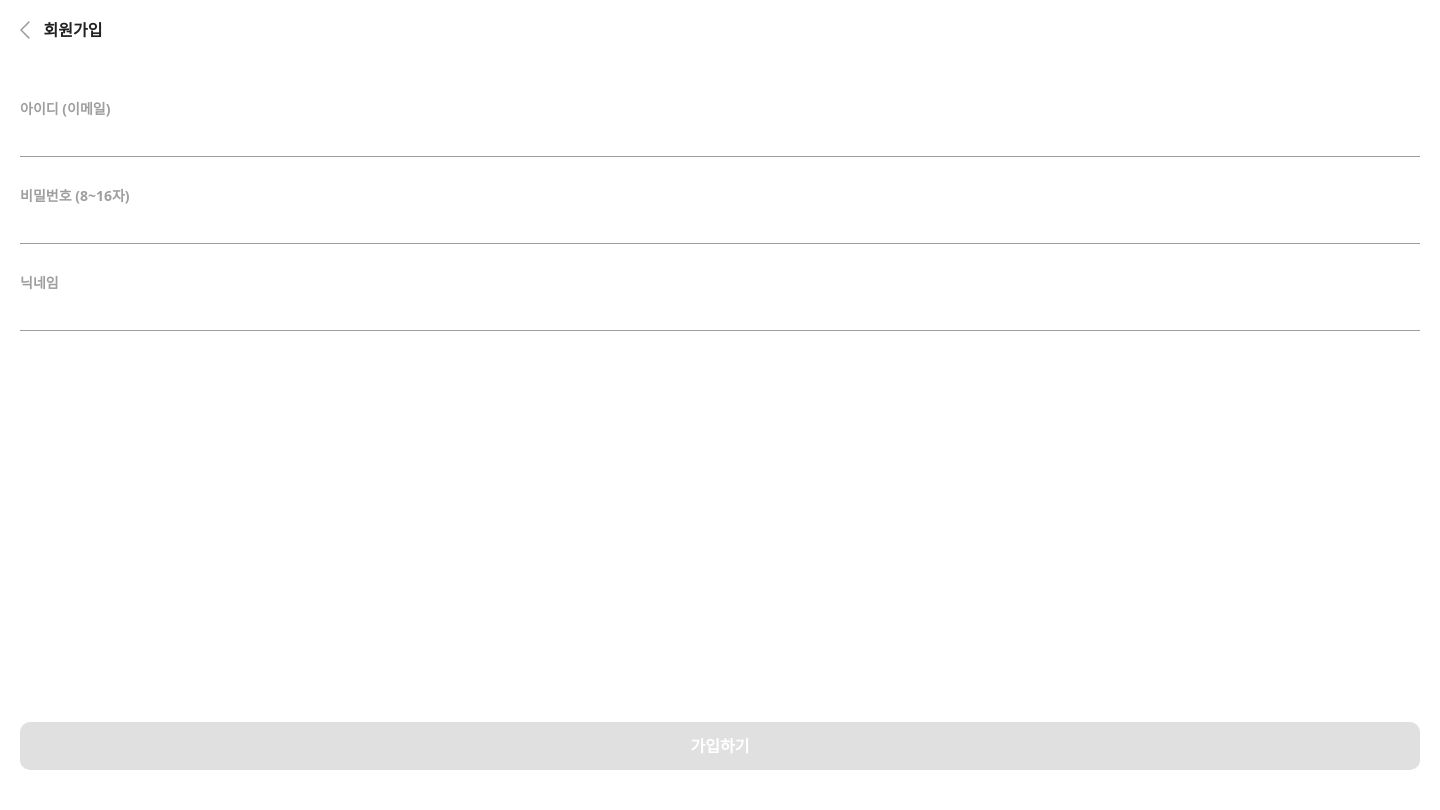
it: 회원가입 테스트 › 비밀번호 형식에 맞지 않는 비밀번호를 입력한 뒤 가입하기 버튼을 누르면 비밀번호 관련 에러메시지가 뜬다.
The image size is (1440, 810).
expect the button "가입하기" is disabled: met, box 20,722 -> 1420,770
Type "brian990614@naver.com" into the field labelled "아이디 (이메일)". click: (720, 141)
box: 20,125 -> 1420,157
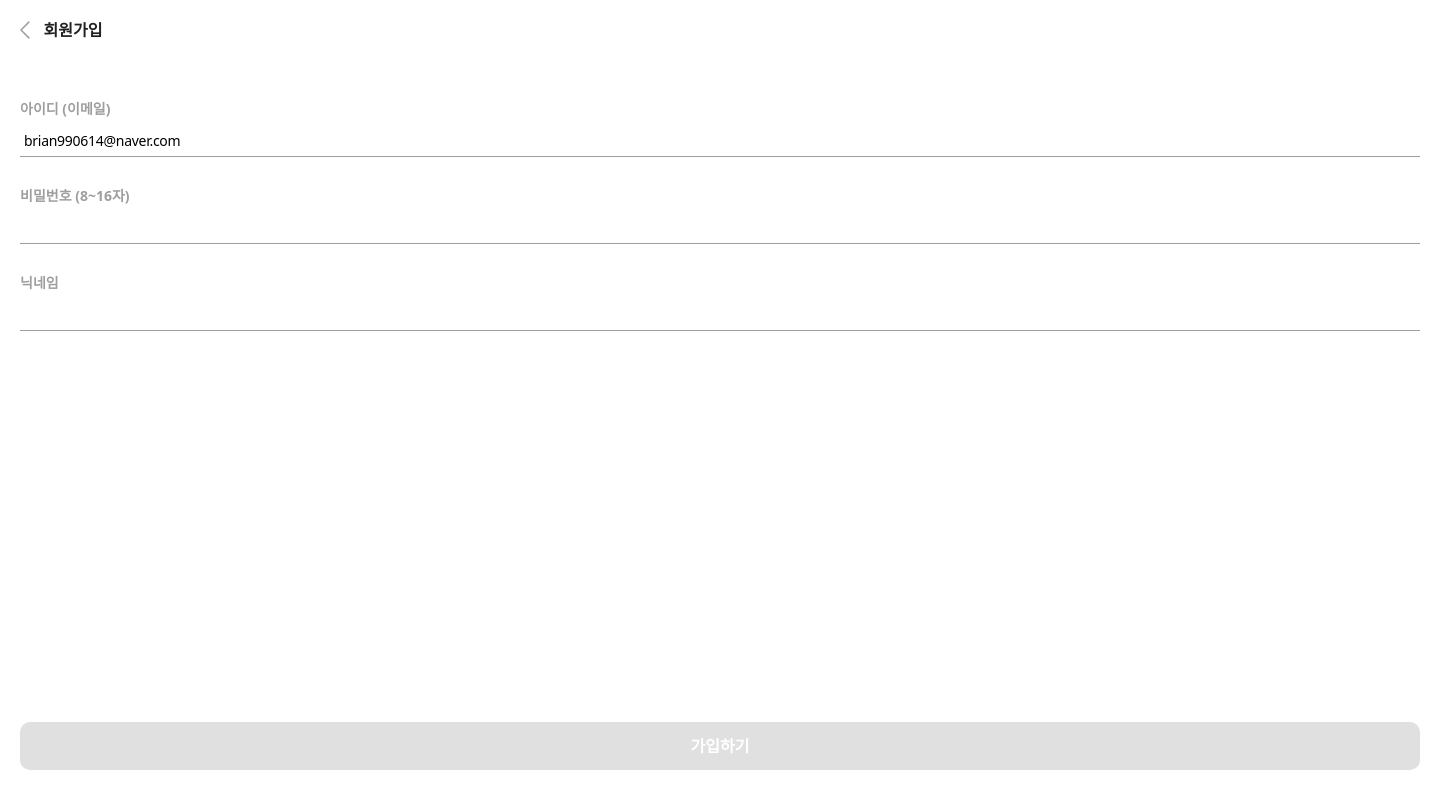
Type "gusals990" into the password field labelled "비밀번호 (8~16자)". click: (720, 228)
box: 20,212 -> 1420,244
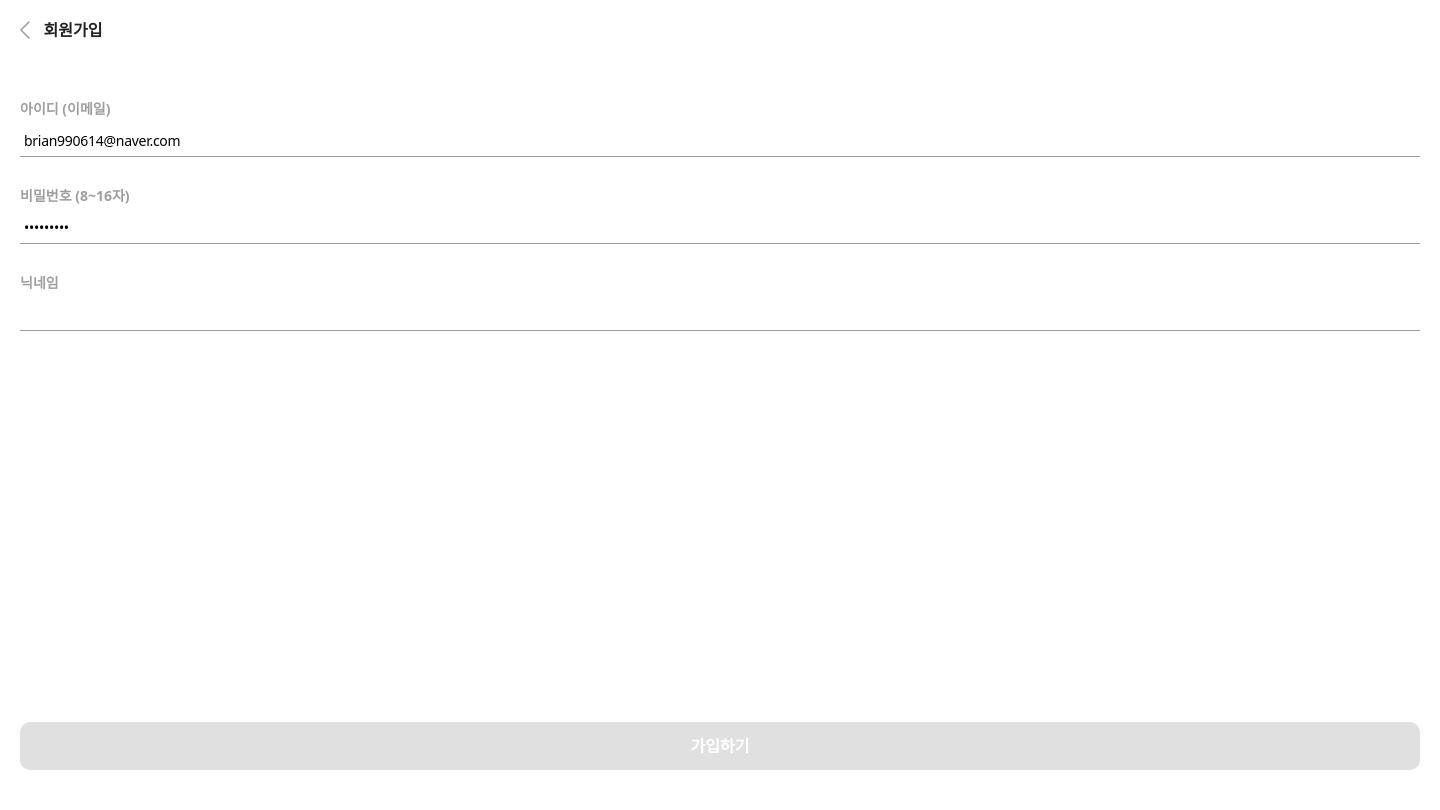
Type "brian" into the field labelled "닉네임". click: (720, 315)
box: 20,299 -> 1420,331
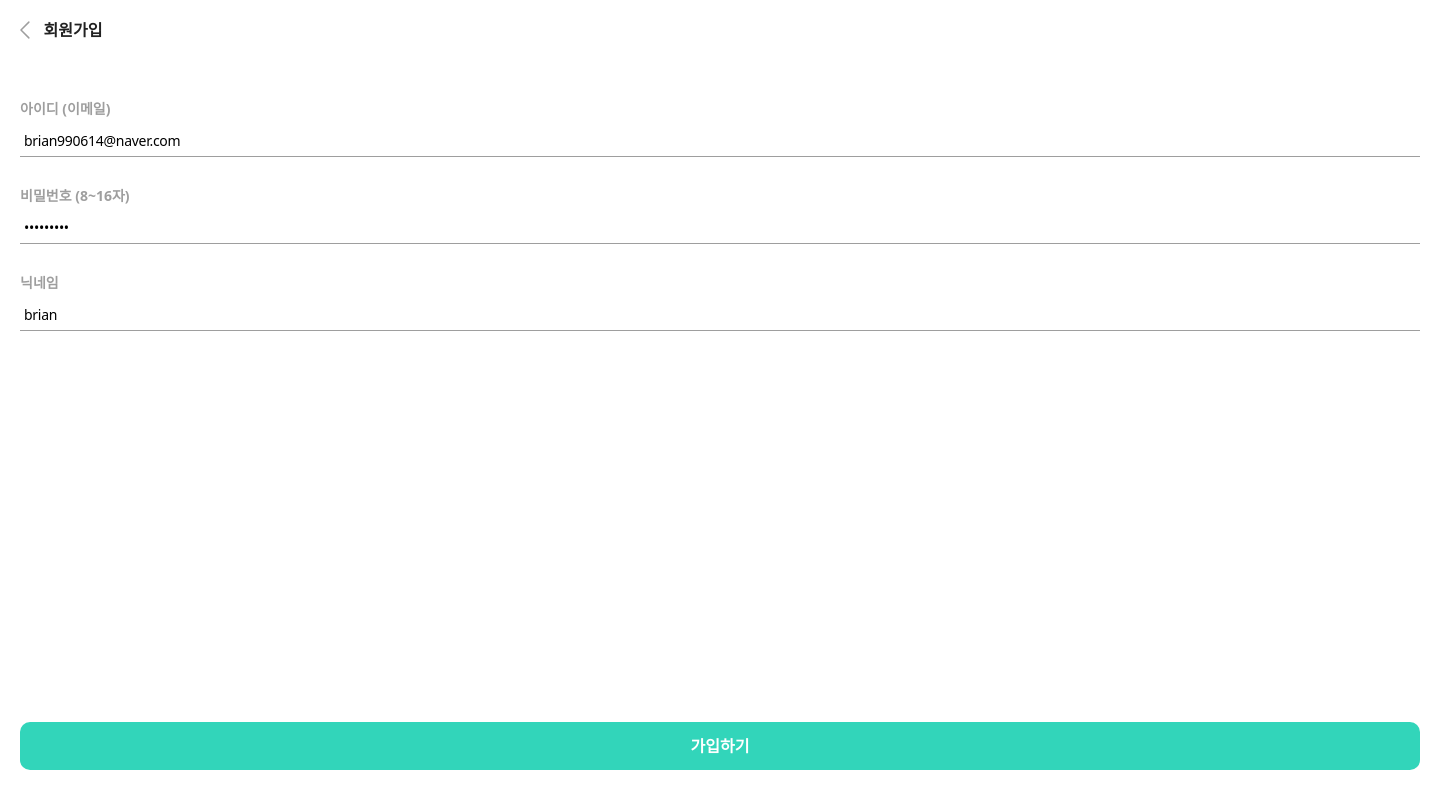
expect the button "가입하기" is enabled: met
Click the button "가입하기". click: (720, 746)
box: 20,722 -> 1420,770
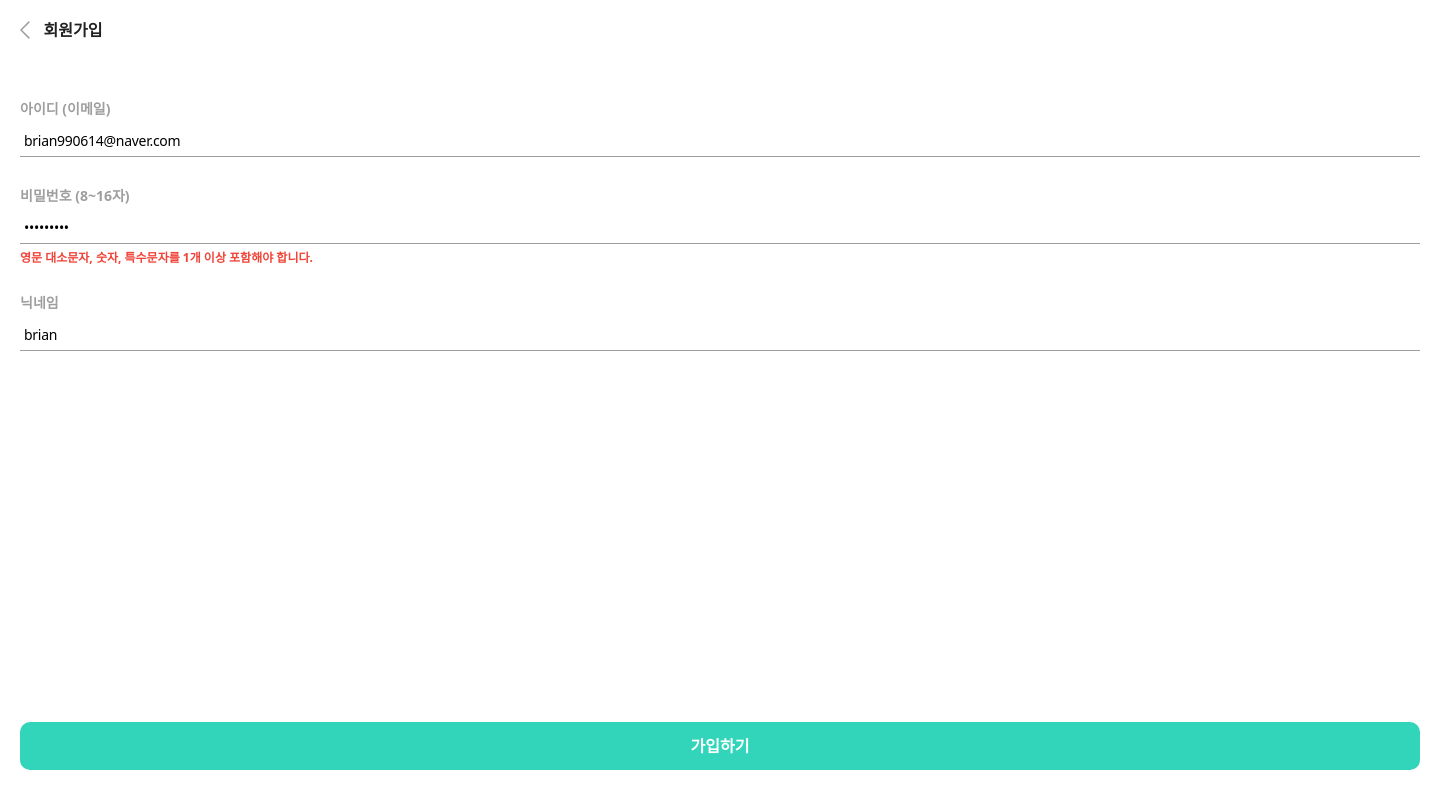
expect the text "영문 대소문자, 숫자, 특수문자를 1개 이상 포함해야 합니다." is shown: met, box 20,249 -> 313,266
Type "gus99^^" into the password field labelled "비밀번호 (8~16자)". click: (720, 228)
box: 20,212 -> 1420,244
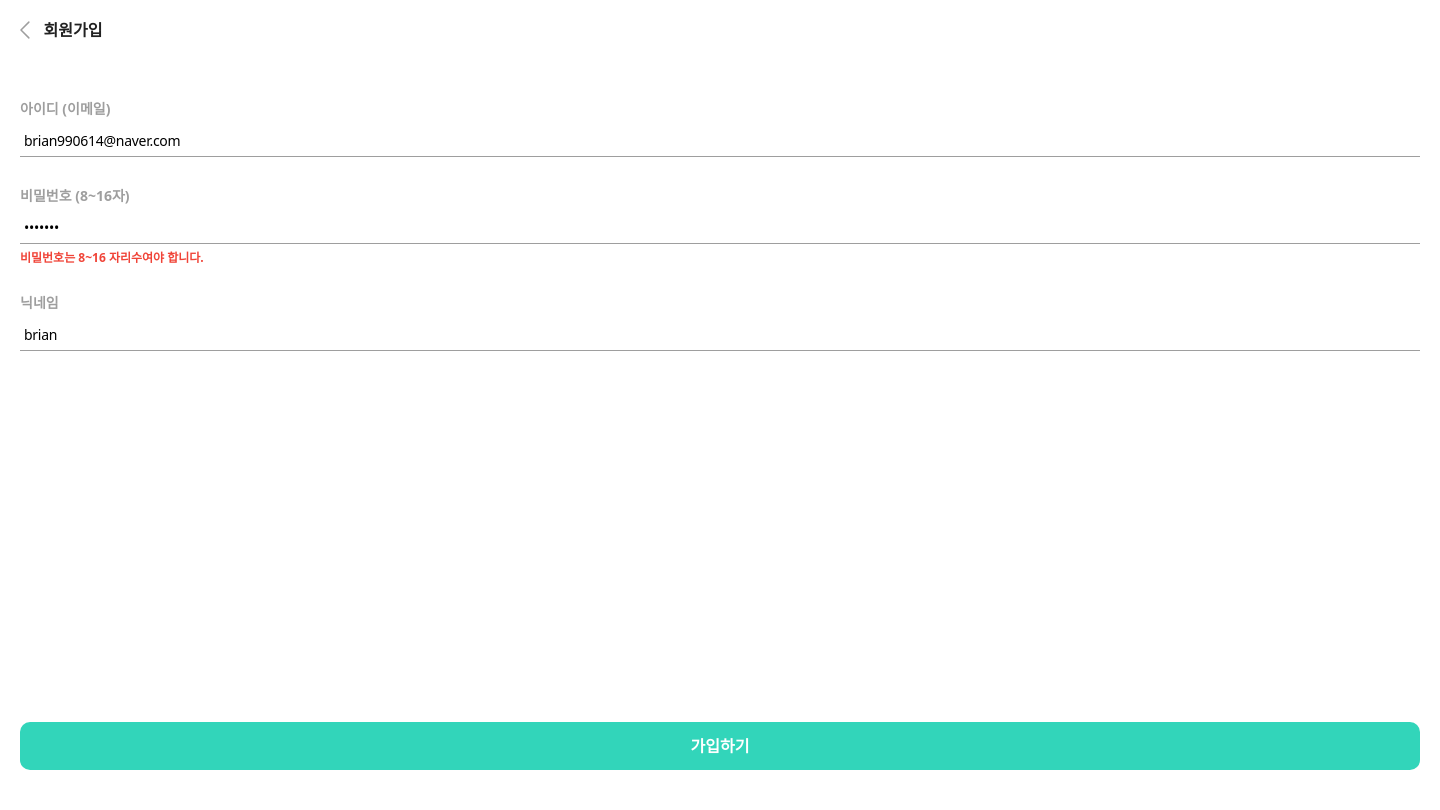
expect the text "비밀번호는 8~16 자리수여야 합니다." is shown: met, box 20,249 -> 204,266
모든 조건을 만족하는 비밀번호가 입력됨
Type "gusals990^^" into the password field labelled "비밀번호 (8~16자)". click: (720, 228)
box: 20,212 -> 1420,244
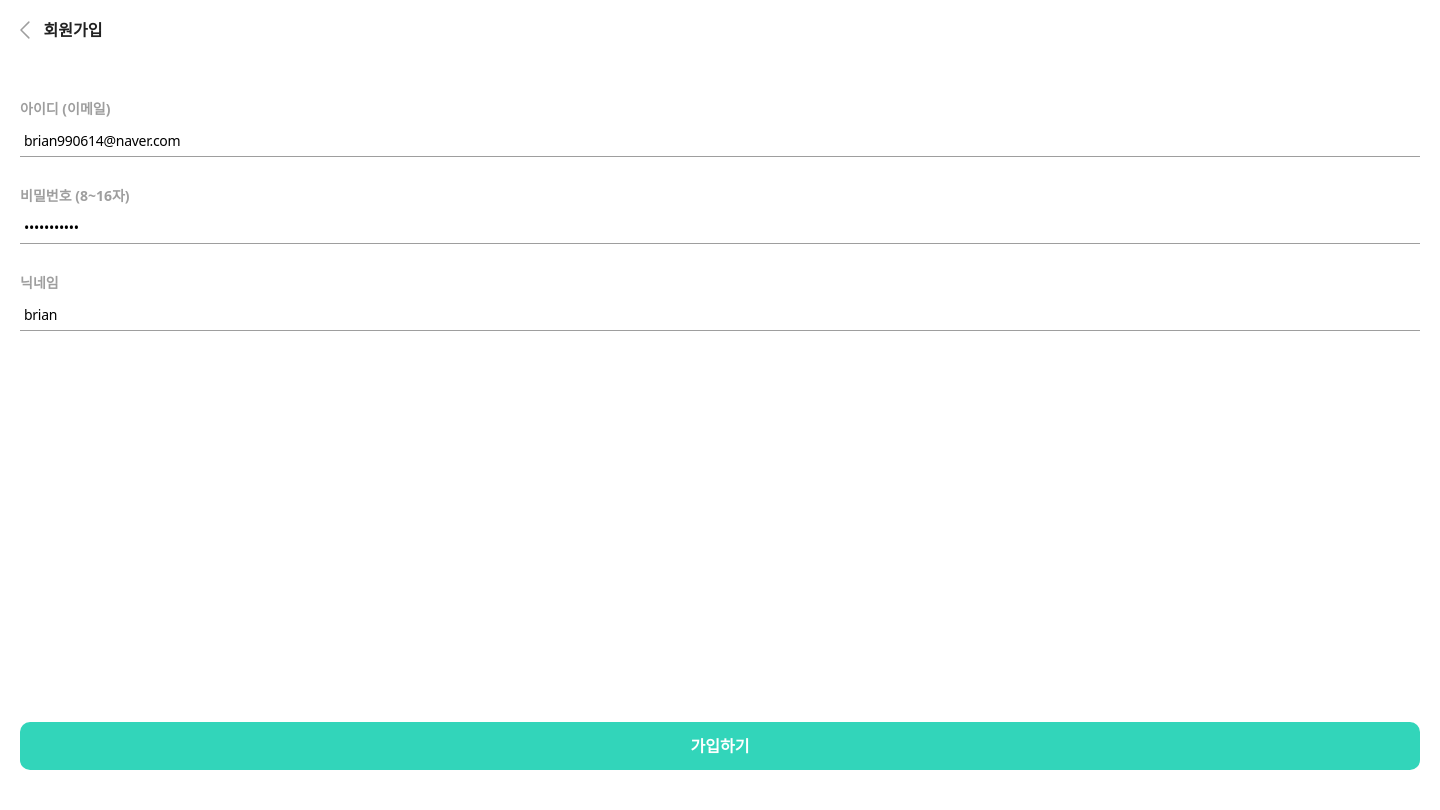
expect the text "비밀번호는 8~16 자리수여야 합니다." is gone: met
